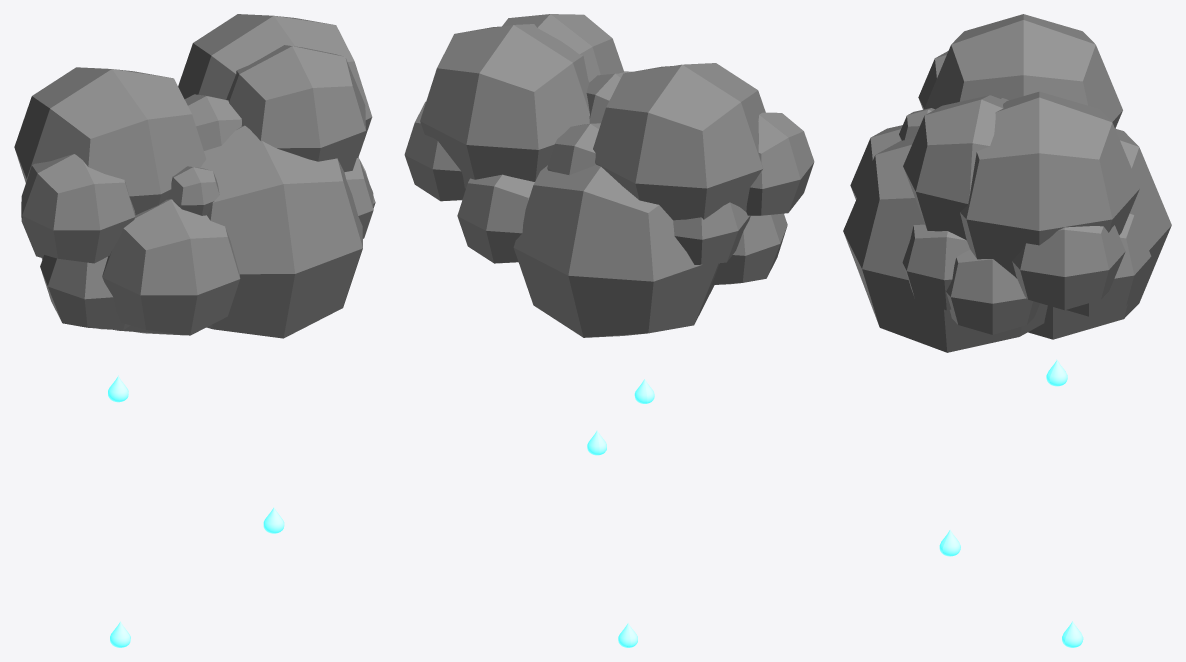
File: cloud.fbx
The picture shows the model from 3 angles, left to right: view 1: azimuth 30°, elevation 25°; view 2: azimuth 150°, elevation 25°; view 3: azimuth 270°, elevation 25°; orthographic projection. The views are drawn at different scales.
Parts seen in each view (by area): view 1: Cube.012; view 2: Cube.012; view 3: Cube.012.
Boxes of the visible parts, x1,y1,x2,y2 form: Cube.012: [14, 14, 375, 338]; Cube.012: [404, 14, 814, 337]; Cube.012: [843, 14, 1171, 352].
Bounding box in the file's own units: 332 × 687 × 439.
